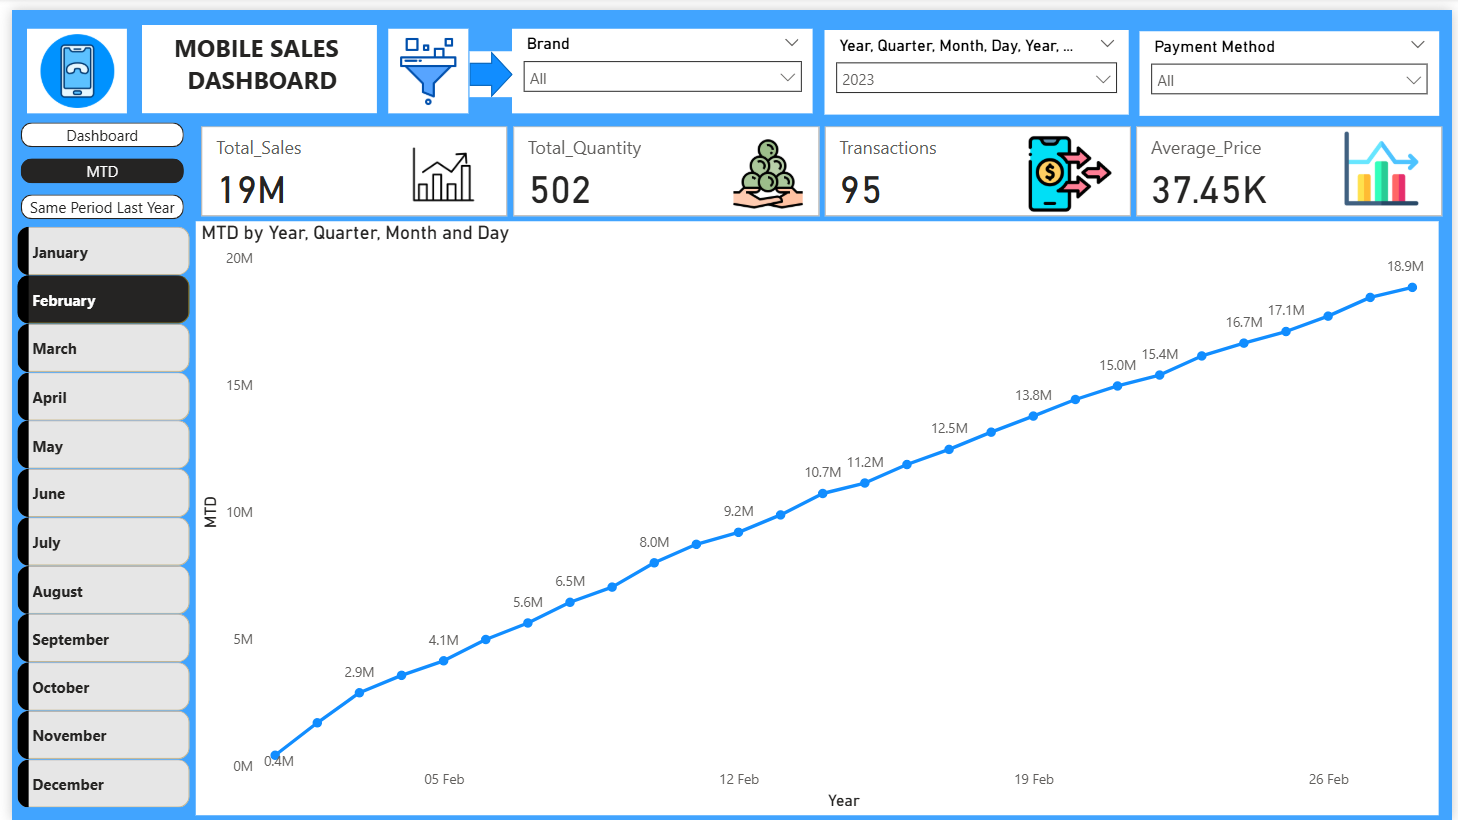

Layout of this report page (visuals, bound fields, positions):
{"tool":"powerbi","page":{"name":"MTD","canvas":[1280,720],"ordinal":1},"visuals":[{"type":"advancedSlicerVisual","fields":{"Values":["Custom_Calender.Date.Variation.Date Hierarchy.Month"]},"box":[0,188,163.3,528.3],"z":0},{"type":"slicer","fields":{"Values":["Custom_Calender.Date.Variation.Date Hierarchy.Year","Custom_Calender.Date.Variation.Date Hierarchy.Quarter","Custom_Calender.Date.Variation.Date Hierarchy.Month","Custom_Calender.Date.Variation.Date Hierarchy.Day","Custom_Calender.Date.Variation.Date Hierarchy.Year","Custom_Calender.Date.Variation.Date Hierarchy.Quarter","Custom_Calender.Date.Variation.Date Hierarchy.Month","Custom_Calender.Date.Variation.Date Hierarchy.Day"]},"box":[721.8,17.8,270.3,75.5],"z":1000},{"type":"slicer","fields":{"Values":["Sales_Data.Payment Method"]},"box":[1001.7,19.2,266.2,75.5],"z":2000},{"type":"cardVisual","fields":{"Data":["Sales_Data.Total_Sales","Sales_Data.Total_Quantity","Sales_Data.Transactions","Sales_Data.Average_Price"]},"box":[163.3,102.9,1117,85.1],"z":3000},{"type":"slicer","fields":{"Values":["Sales_Data.Brand"]},"box":[444.6,16.5,267.6,75.5],"z":4000},{"type":"image","box":[344.4,102.9,78.2,85.1],"z":5000},{"type":"image","box":[634,102.9,75.5,85.1],"z":6000},{"type":"image","box":[898.8,102.9,83.7,85.1],"z":7000},{"type":"image","box":[1178.7,102.9,76.8,75.5],"z":8000},{"type":"textbox","box":[115.3,13.7,208.6,78.2],"z":9000},{"type":"image","box":[334.8,16.5,71.4,75.5],"z":10000},{"type":"image","box":[13.7,16.5,89.2,75.5],"z":11000},{"type":"shape","box":[406.2,37,38.4,41.2],"z":12000},{"type":"lineChart","fields":{"Category":["Custom_Calender.Date.Variation.Date Hierarchy.Year","Custom_Calender.Date.Variation.Date Hierarchy.Quarter","Custom_Calender.Date.Variation.Date Hierarchy.Month","Custom_Calender.Date.Variation.Date Hierarchy.Day"],"Y":["Sales_Data.MTD"]},"box":[163.3,188,1104.6,528.3],"z":13000},{"type":"pageNavigator","box":[8.2,100.2,145.5,87.8],"z":13001}]}

Visuals, with their boxes in screenshot pixels (x1, y1, x2, y2), scaled from the page's 1280x720 canvas onto the 1458x820 screenshot:
advancedSlicerVisual - Custom_Calender.Date.Variation.Date Hierarchy.Month: Rect(0, 214, 186, 816)
slicer - Custom_Calender.Date.Variation.Date Hierarchy.Year x Custom_Calender.Date.Variation.Date Hierarchy.Quarter: Rect(822, 20, 1130, 106)
slicer - Sales_Data.Payment Method: Rect(1141, 22, 1444, 108)
cardVisual - Sales_Data.Total_Sales x Sales_Data.Total_Quantity: Rect(186, 117, 1457, 214)
slicer - Sales_Data.Brand: Rect(506, 19, 811, 105)
image: Rect(392, 117, 481, 214)
image: Rect(722, 117, 808, 214)
image: Rect(1024, 117, 1119, 214)
image: Rect(1343, 117, 1430, 203)
textbox: Rect(131, 16, 369, 105)
image: Rect(381, 19, 463, 105)
image: Rect(16, 19, 117, 105)
shape: Rect(463, 42, 506, 89)
lineChart - Custom_Calender.Date.Variation.Date Hierarchy.Year x Custom_Calender.Date.Variation.Date Hierarchy.Quarter: Rect(186, 214, 1444, 816)
pageNavigator: Rect(9, 114, 175, 214)
